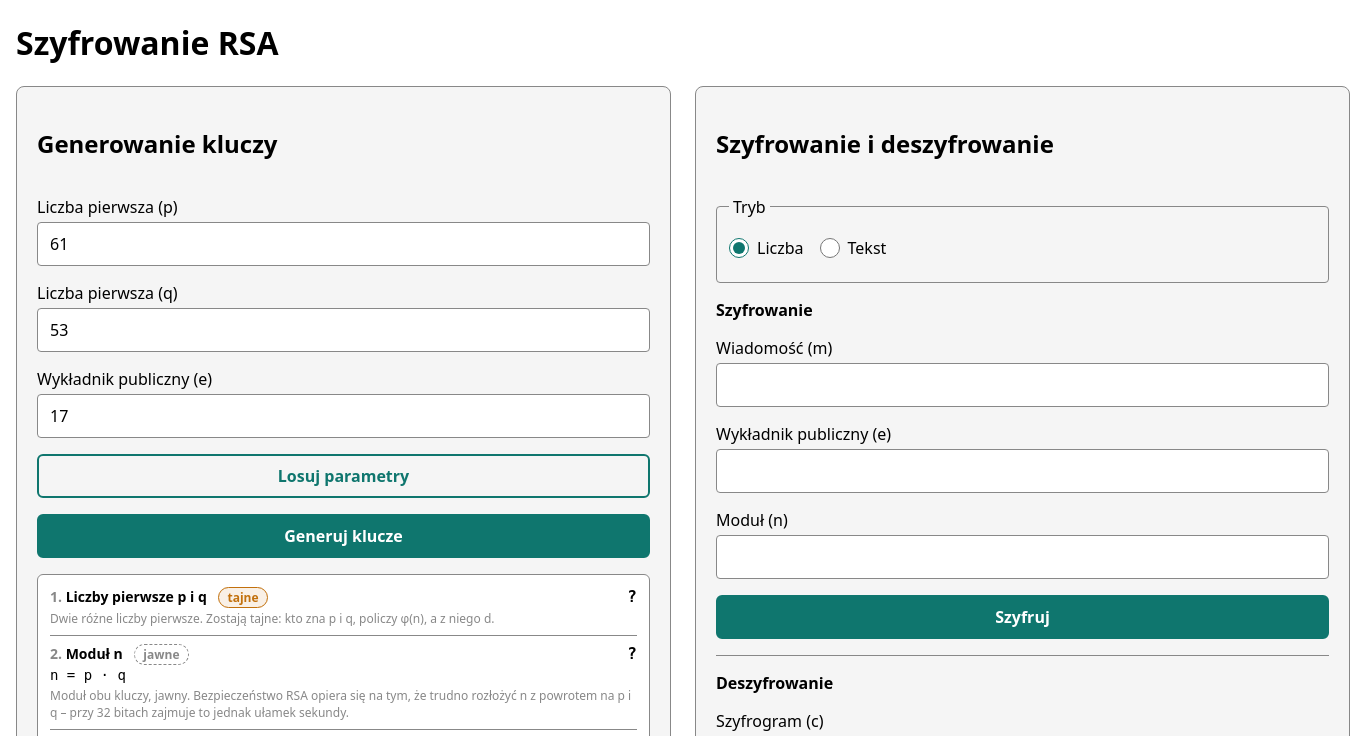
Test: RSA – losowanie p, q, e › odpowiedź w złym formacie nie zmienia pól
The width and height of the screenshot is (1366, 736).
Click the button "Losuj parametry" at (344, 476), box [37,454,650,498]
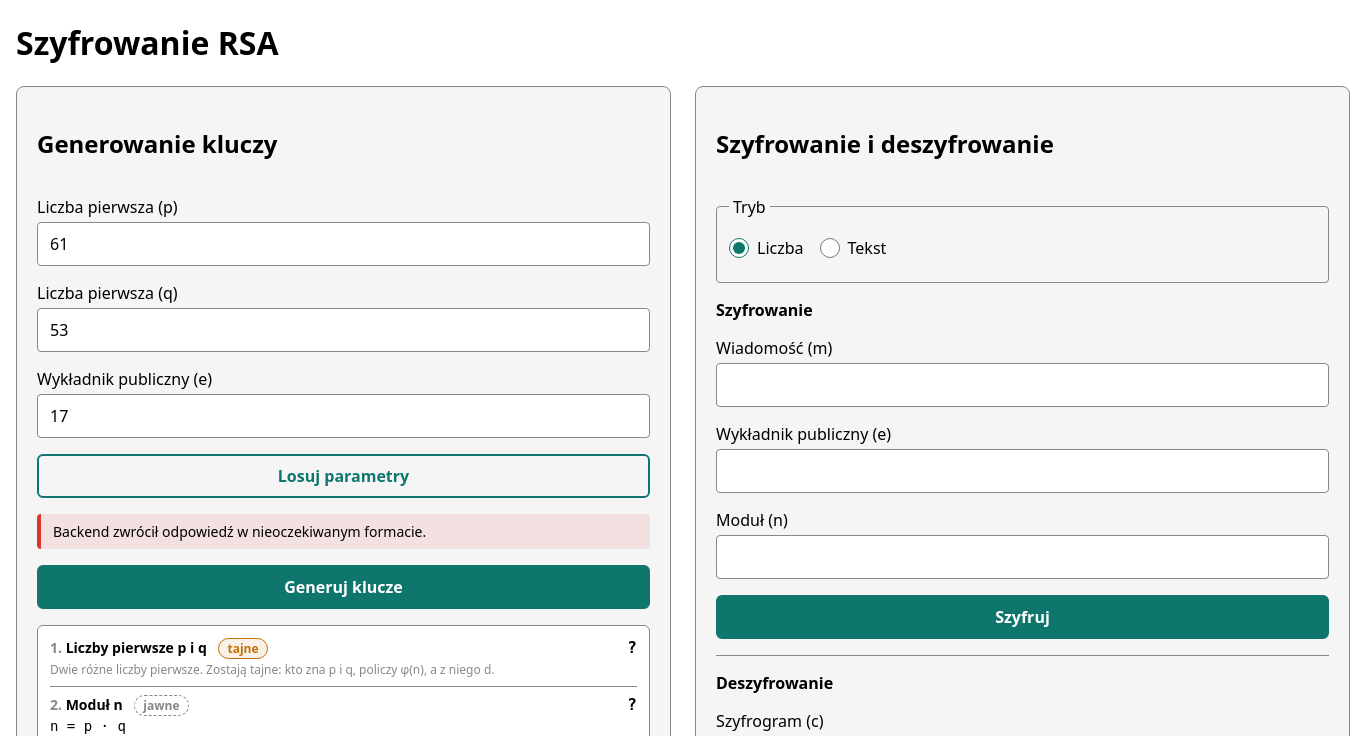
Now the text "Backend zwrócił odpowiedź w nieoczekiwanym formacie." is shown, box [37,514,650,549]
